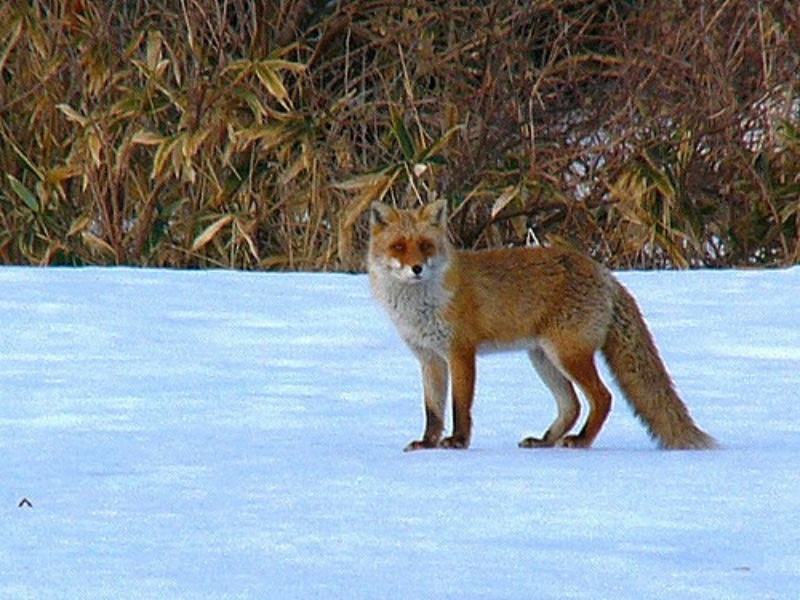fox: (360, 192, 720, 458)
